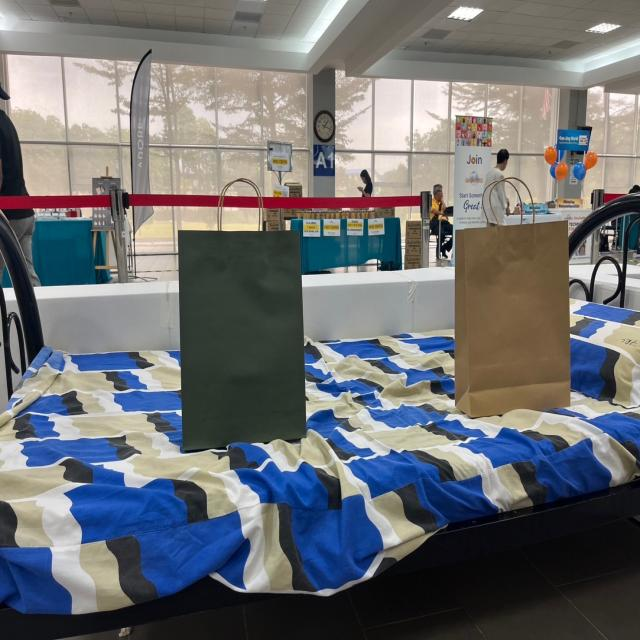bag: (185, 162, 314, 436), (468, 145, 564, 405)
